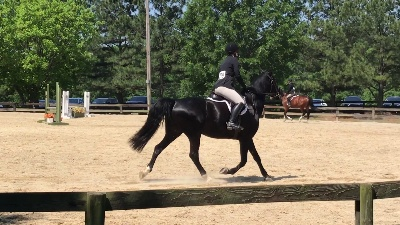jetta: (126, 65, 280, 186)
